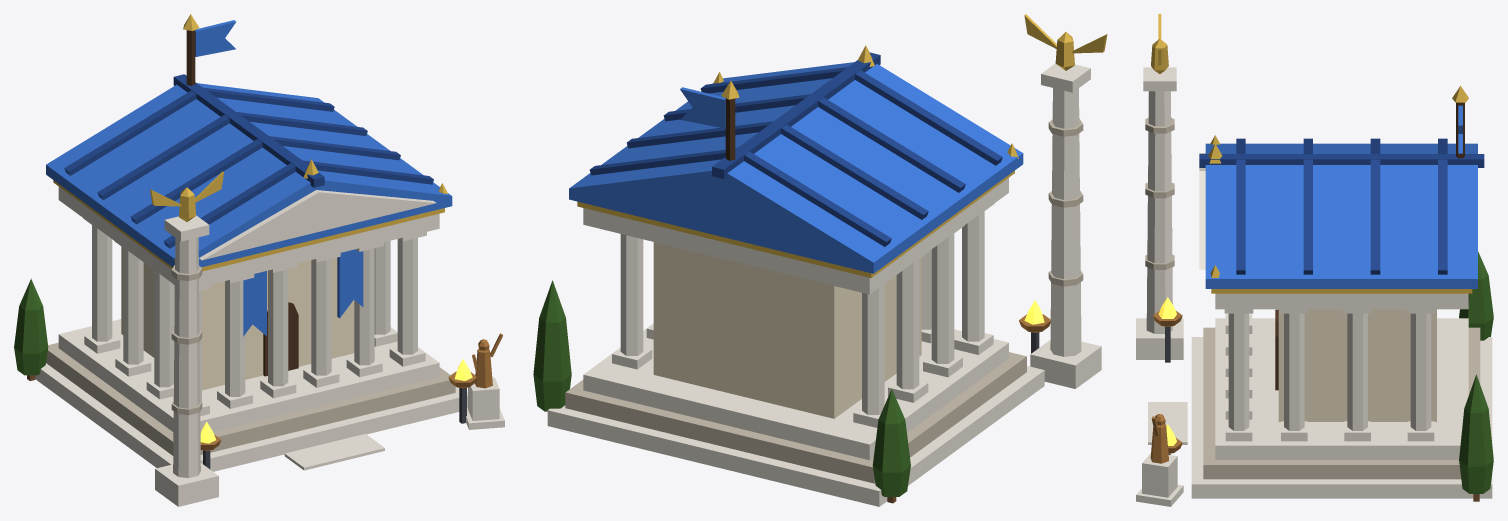
Rendered from city_center_1.glb.
3 renders of one model, left to right at view 1: azimuth 30°, elevation 25°; view 2: azimuth 150°, elevation 25°; view 3: azimuth 270°, elevation 25°, orthographic. The views are drawn at different scales.
Visible parts, largest first — view 1: city_center_1; view 2: city_center_1; view 3: city_center_1.
Part boxes in pixels (<box>): city_center_1: <box>14,14,504,506</box>; city_center_1: <box>533,14,1107,506</box>; city_center_1: <box>1136,14,1493,506</box>.
Size of the model in its own units: 0.524 by 0.4732 by 0.452.
